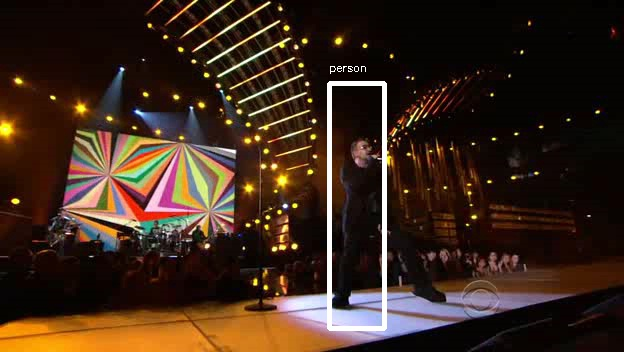person: (341, 138, 409, 243), (338, 138, 406, 243), (344, 138, 412, 243), (341, 135, 409, 240), (341, 141, 409, 246)
target_negative: (266, 33, 534, 170), (10, 119, 493, 178), (344, 33, 432, 280), (206, 88, 277, 295), (220, 109, 452, 149), (358, 290, 393, 308)
